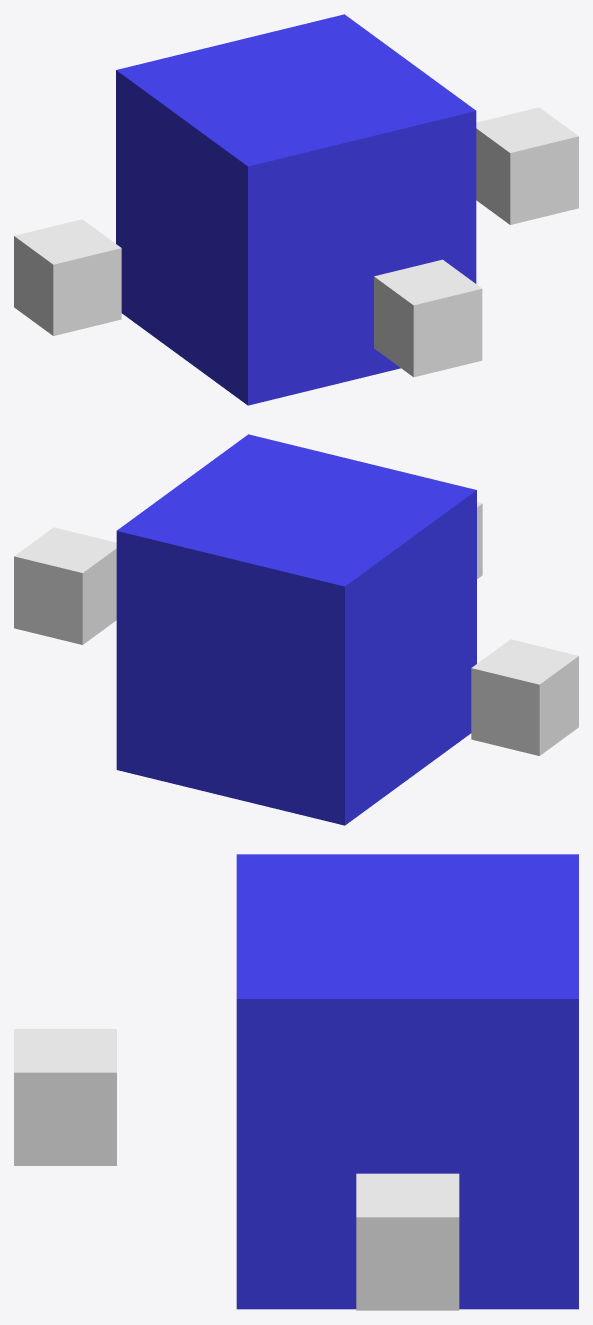
Rendered from minimap_room_3_door.fbx.
3 renders of one model, top to bottom at view 1: azimuth 30°, elevation 25°; view 2: azimuth 150°, elevation 25°; view 3: azimuth 270°, elevation 25°, orthographic. The views are drawn at different scales.
Visible parts, largest first — view 1: minimap_room_3_door; view 2: minimap_room_3_door; view 3: minimap_room_3_door.
Boxes of the visible parts, x1,y1,x2,y2 form: minimap_room_3_door: [14, 14, 578, 405]; minimap_room_3_door: [14, 434, 578, 825]; minimap_room_3_door: [14, 854, 578, 1310].
Size of the model in its own units: 1.15 by 0.5 by 0.8252.
